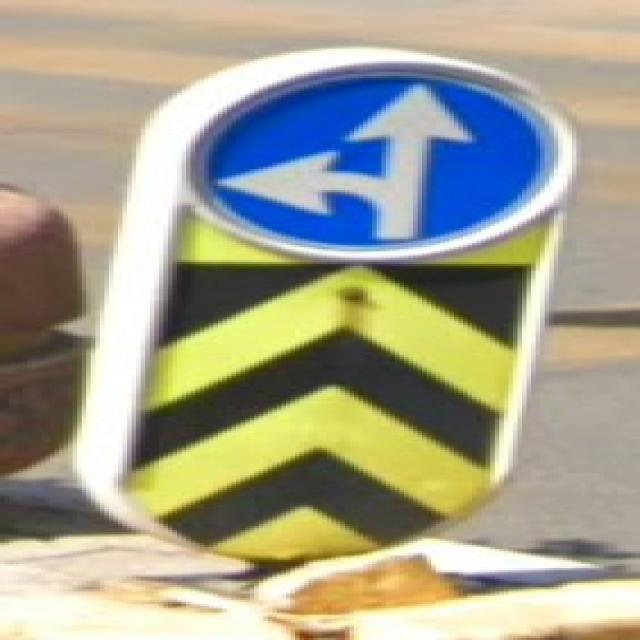Straight or Left: (198, 74, 557, 249)
